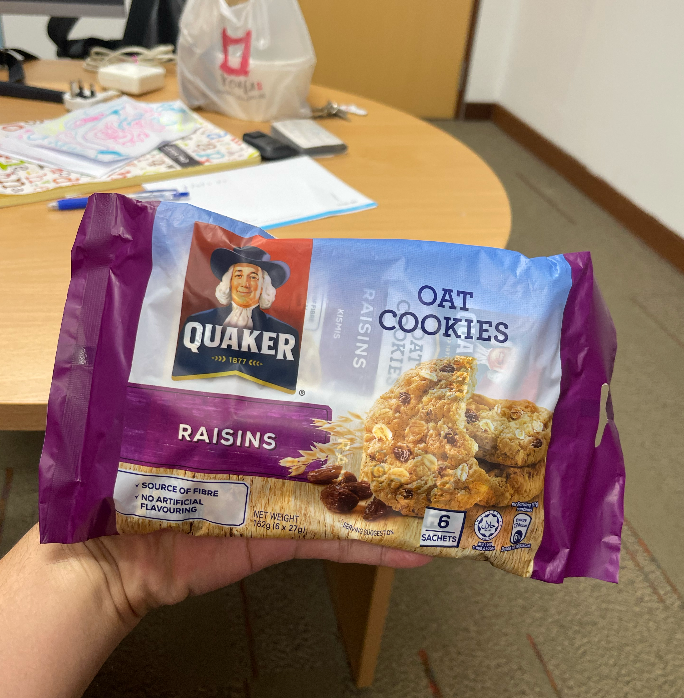cookies_100g-199g: (115, 246, 549, 551)
